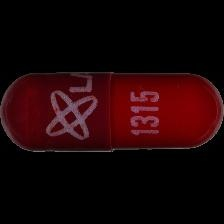50090-0963: (0, 0, 224, 224)
